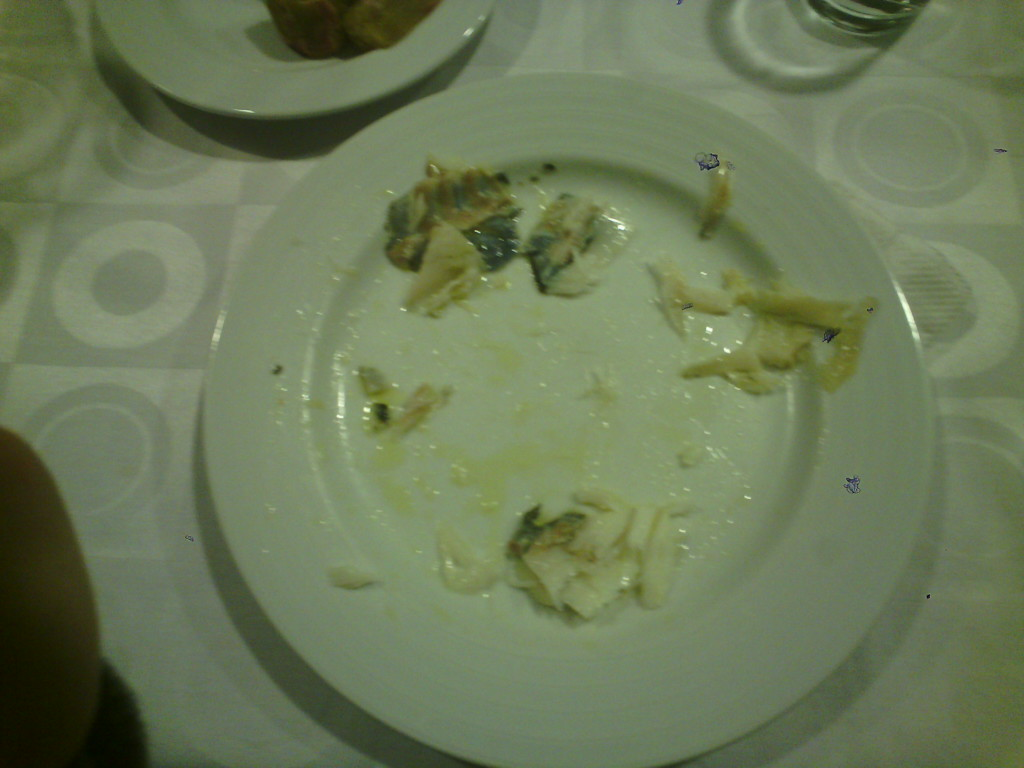0-20: (210, 79, 936, 768)
